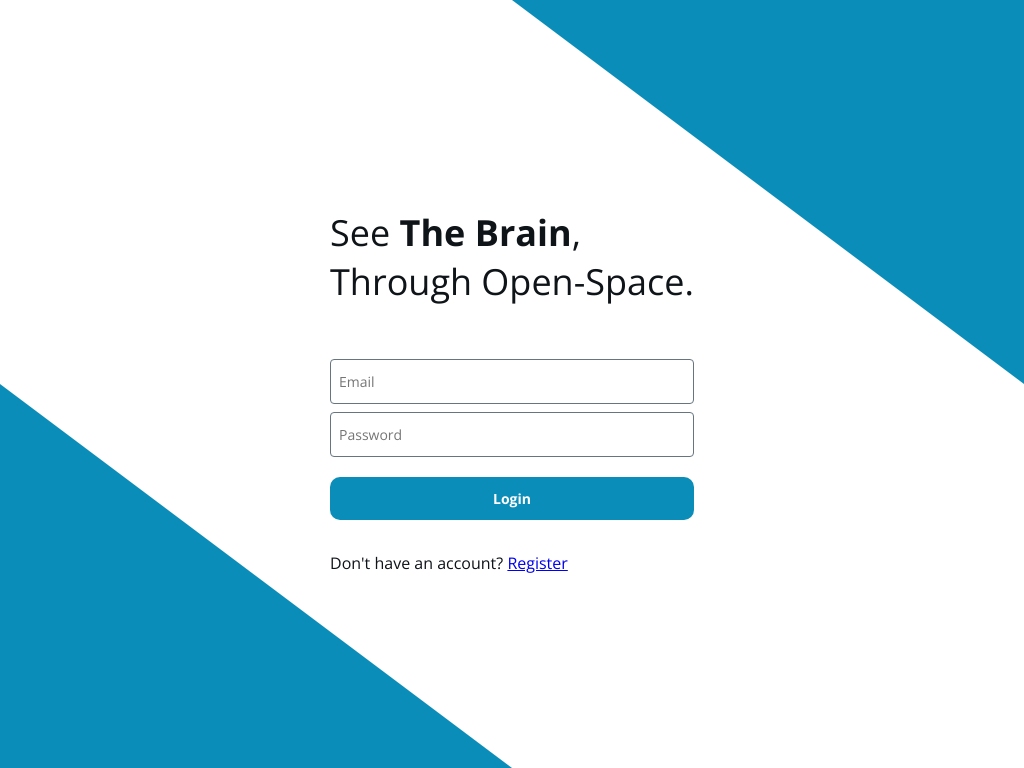
Test: Login flow › should login successfully
The image size is (1024, 768).
Type "testingdummy@mail.com" into the field with placeholder "Email" at (512, 382), box [330,359,694,404]
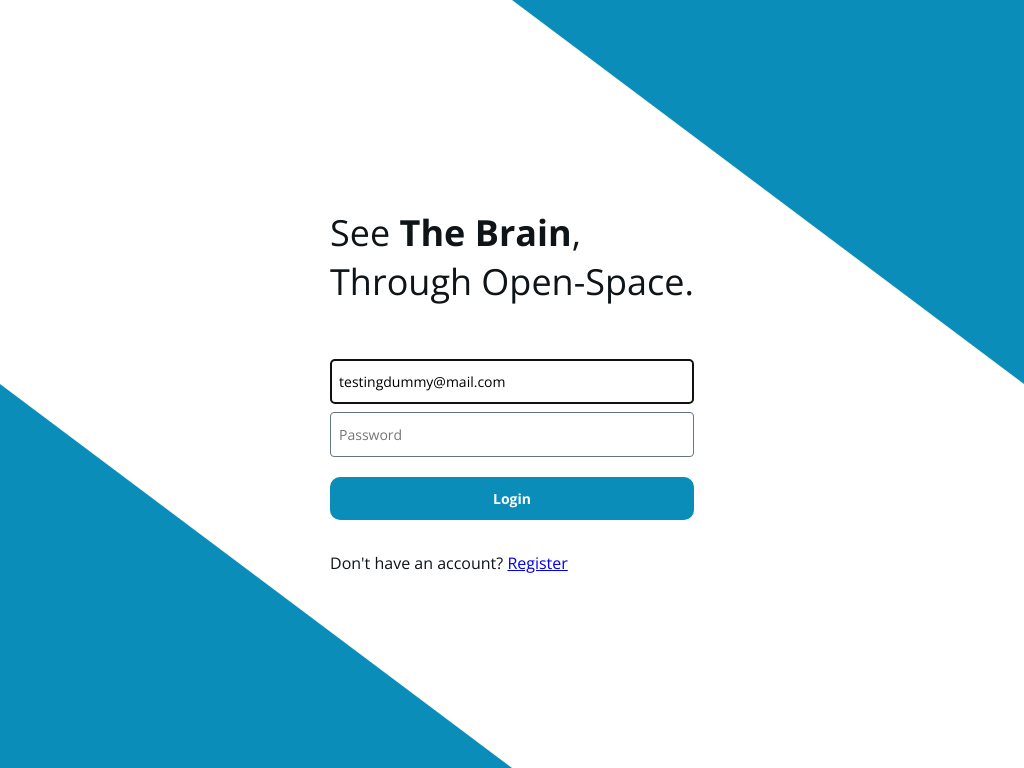
Type "test1234" into the password field with placeholder "Password" at (512, 435), box [330,412,694,457]
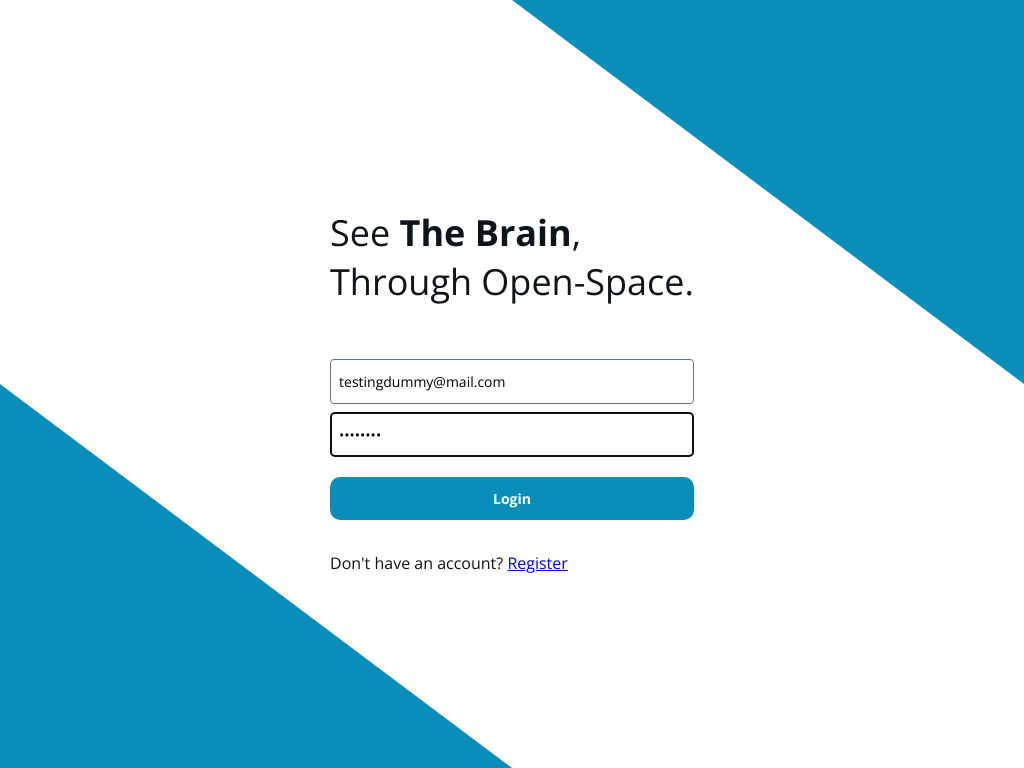
Click the button "Login" at (512, 499), box [330,477,694,520]
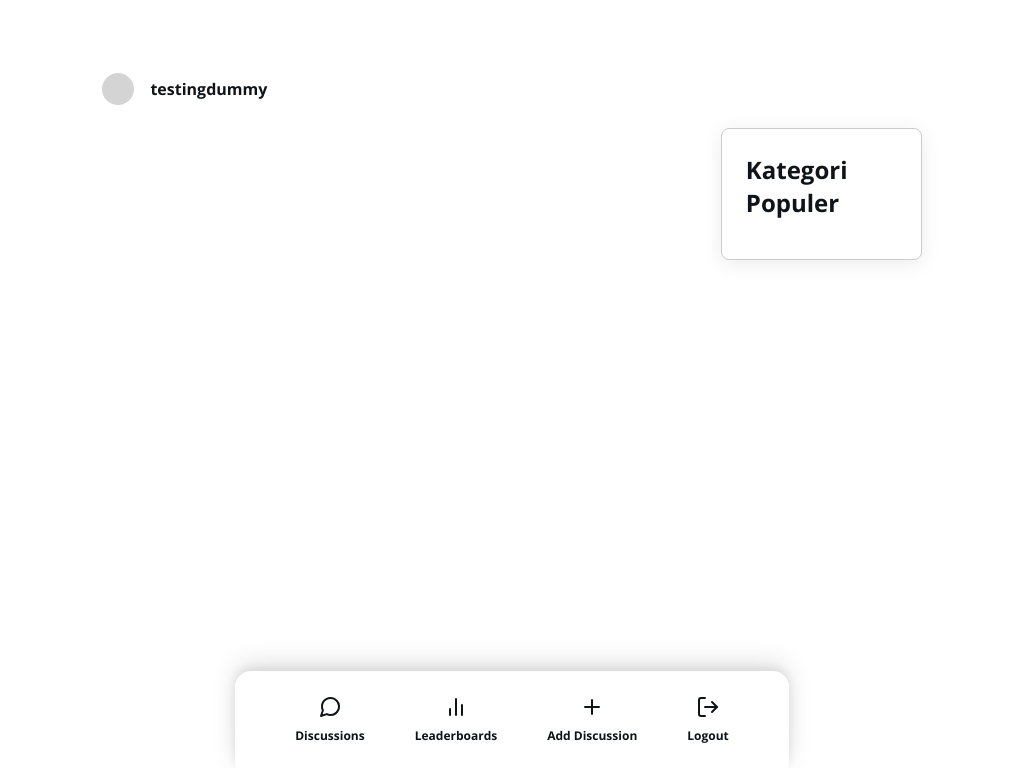
expect the element with class "home-page" is shown: met, box [102,0,921,260]
